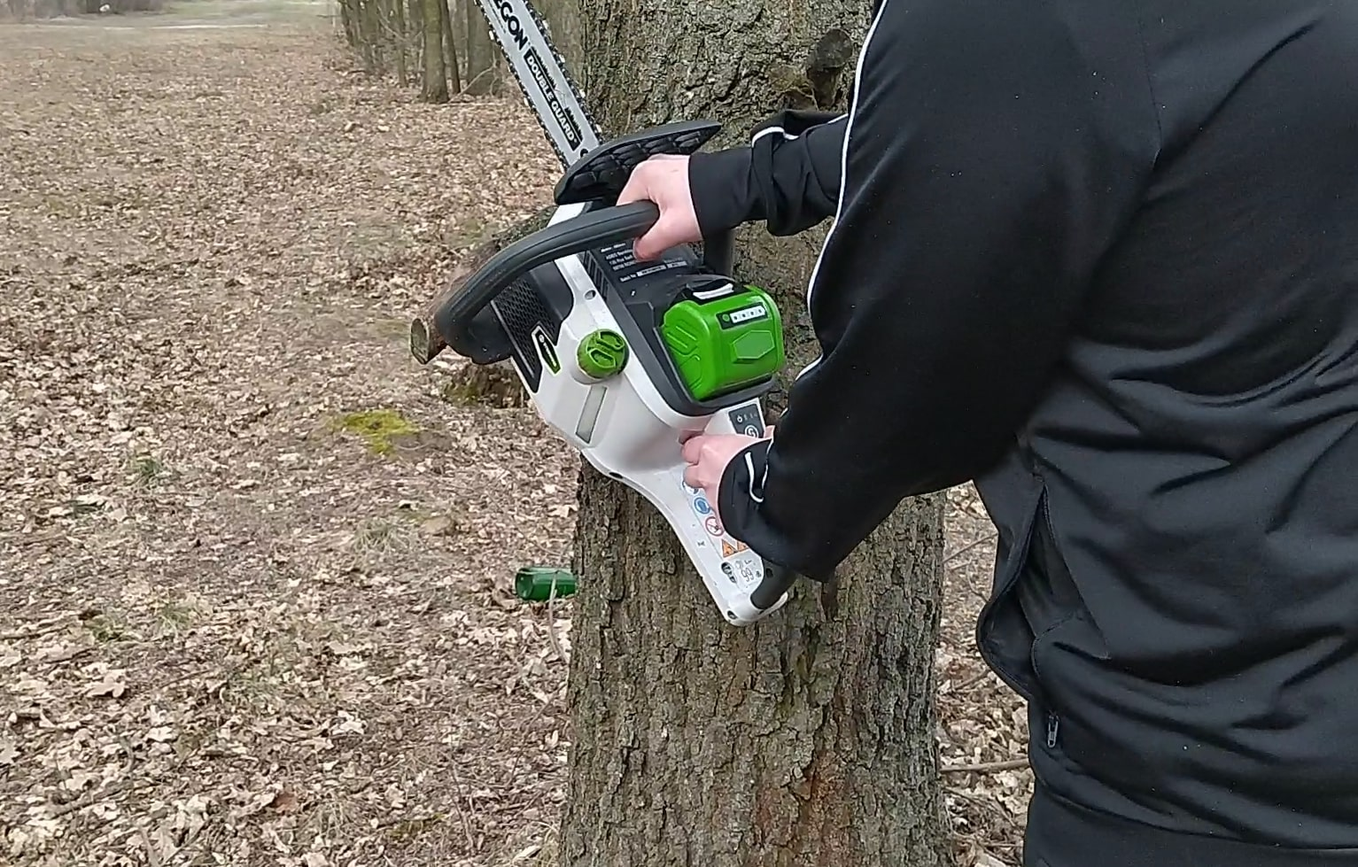chainsaw: (438, 3, 770, 601)
